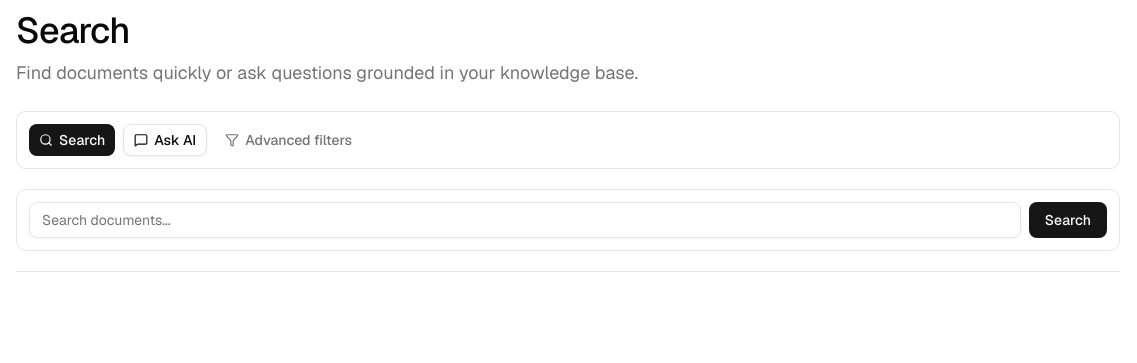
Scenario: Search Behavior › shows empty state when semantic search returns no documents
Type "nothing" into the field with test id "search-input" at (525, 220), box x1=29 y1=202 x2=1021 y2=238
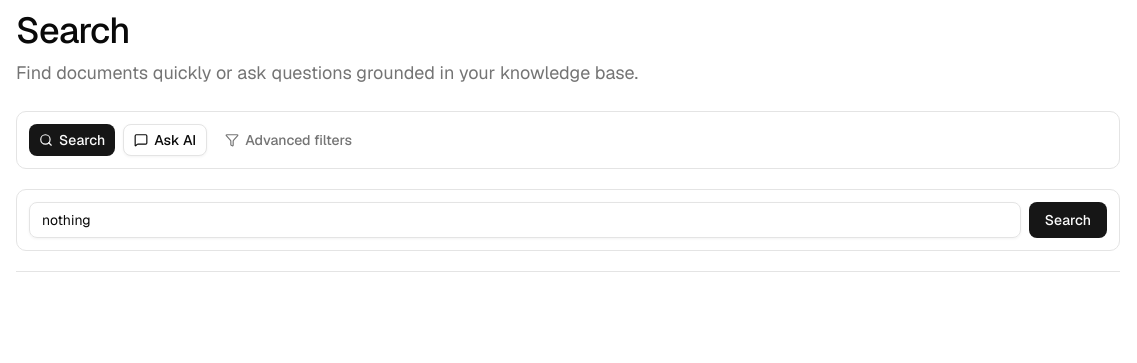
Click the button with test id "search-submit" at (1068, 220), box x1=1029 y1=202 x2=1107 y2=238
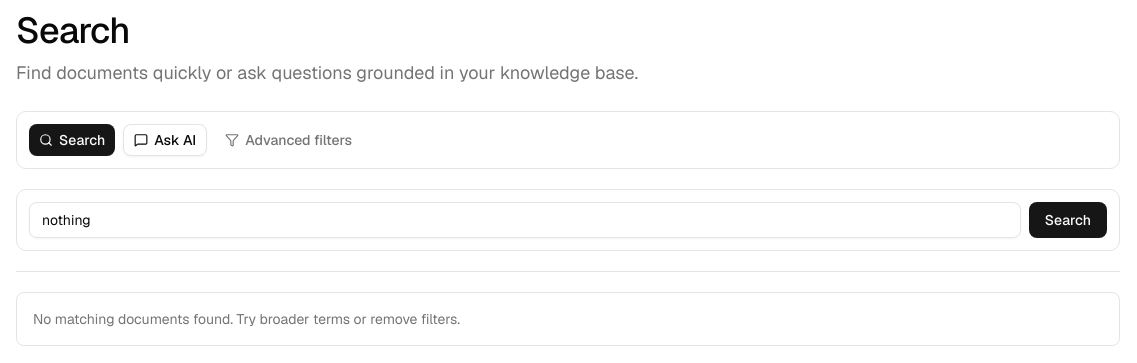
Result: the text "No matching documents found. Try broader terms or remove filters." is shown at x1=16 y1=292 x2=1120 y2=346
